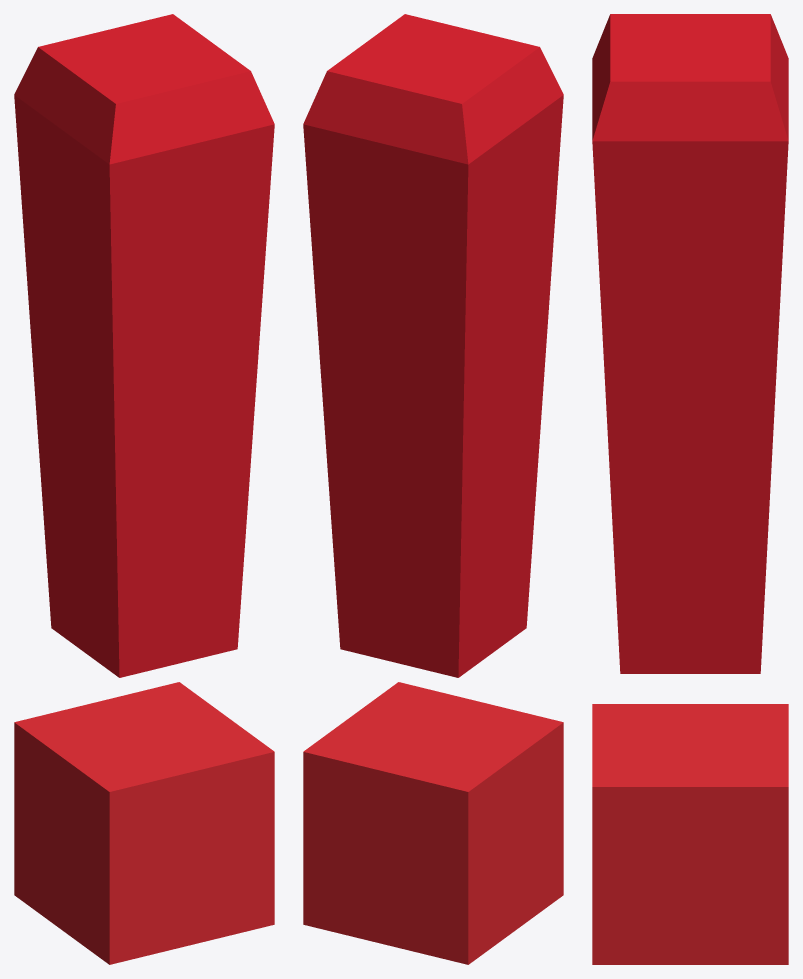
The model's file is exclamation Point.fbx.
3 renders of one model, left to right at view 1: azimuth 30°, elevation 25°; view 2: azimuth 150°, elevation 25°; view 3: azimuth 270°, elevation 25°, orthographic. The views are drawn at different scales.
Parts seen in each view (by area): view 1: Cube.001, Cube; view 2: Cube.001, Cube; view 3: Cube.001, Cube.
Boxes of the visible parts, <box> form: Cube.001: <box>14,14,274,677</box>; Cube: <box>14,682,274,964</box>; Cube.001: <box>303,14,563,677</box>; Cube: <box>303,682,563,964</box>; Cube.001: <box>592,14,788,673</box>; Cube: <box>592,704,788,964</box>.
Size of the model in its own units: 43.08 by 212 by 43.08.
